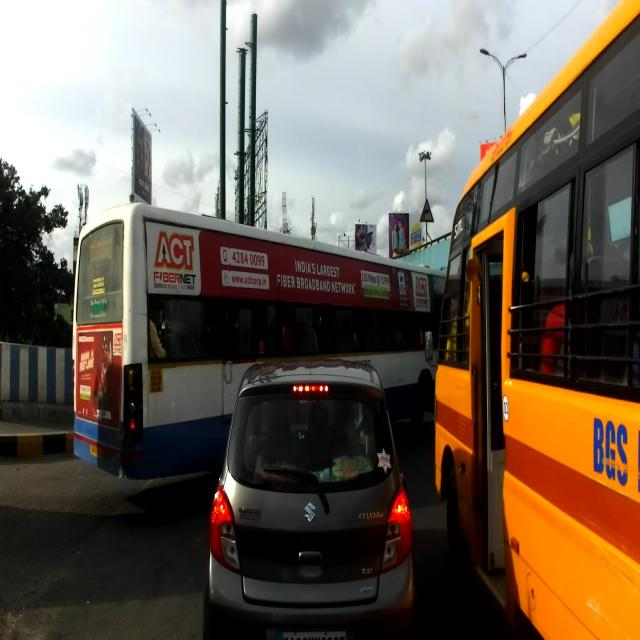Car_Maruti-Suzuki: (200, 352, 414, 640)
bus: (423, 1, 640, 639), (72, 196, 445, 499)
